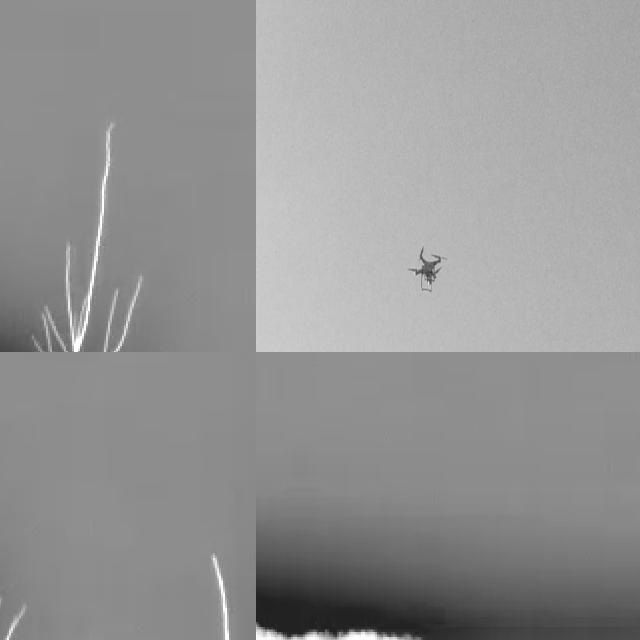drone: (406, 243, 446, 294)
